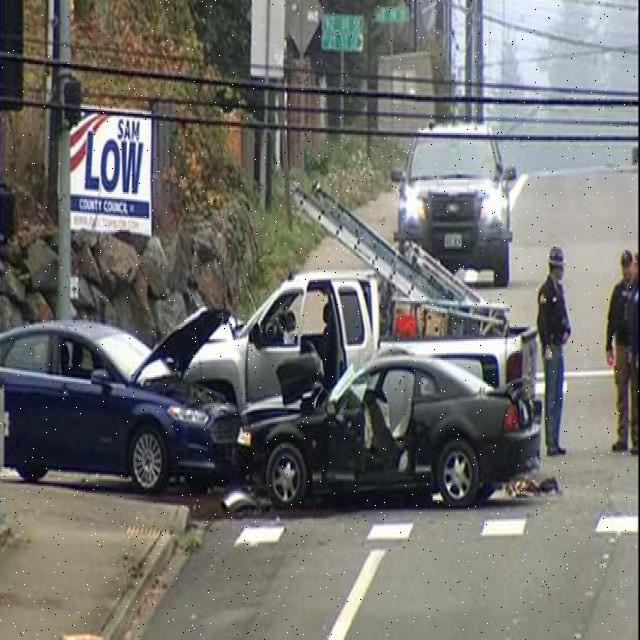moderate: (0, 292, 542, 512)
